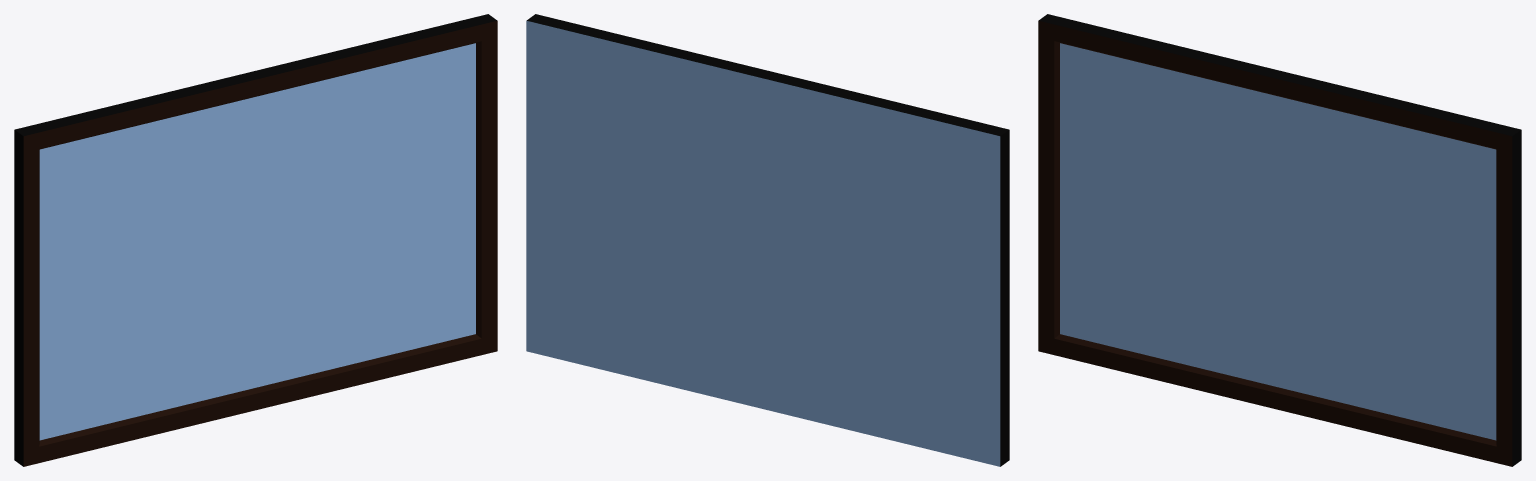
Rendered from Painting 003.FBX.
3 renders of one model, left to right at view 1: azimuth 30°, elevation 25°; view 2: azimuth 150°, elevation 25°; view 3: azimuth 330°, elevation 25°, orthographic.
Visible parts, largest first — view 1: Painting 003; view 2: Painting 003; view 3: Painting 003.
Boxes of the visible parts, <box> form: Painting 003: <box>14,14,497,466</box>; Painting 003: <box>526,14,1009,466</box>; Painting 003: <box>1038,14,1521,466</box>.
Size of the model in its own units: 3 by 2 by 0.1.
